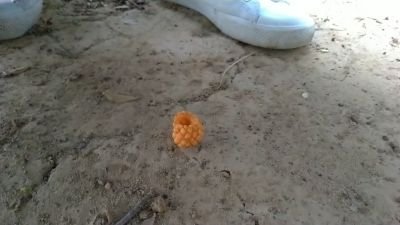eggs: (174, 110, 205, 156)
